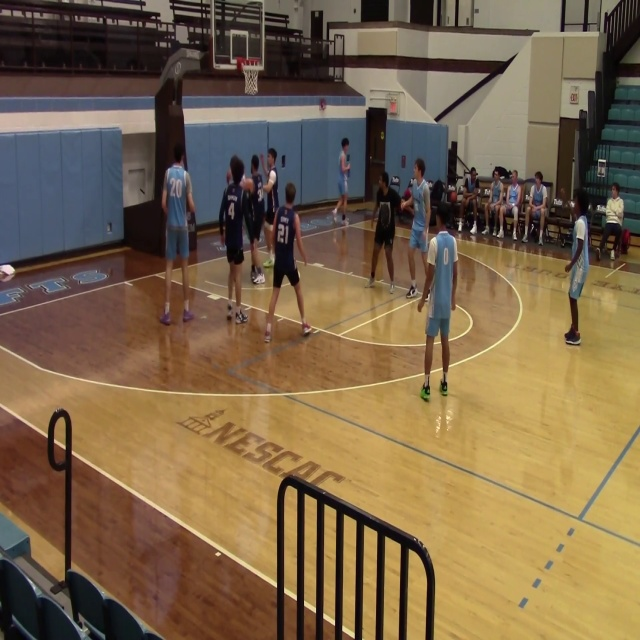Basketball: (240, 179, 254, 193), (0, 264, 15, 276)
